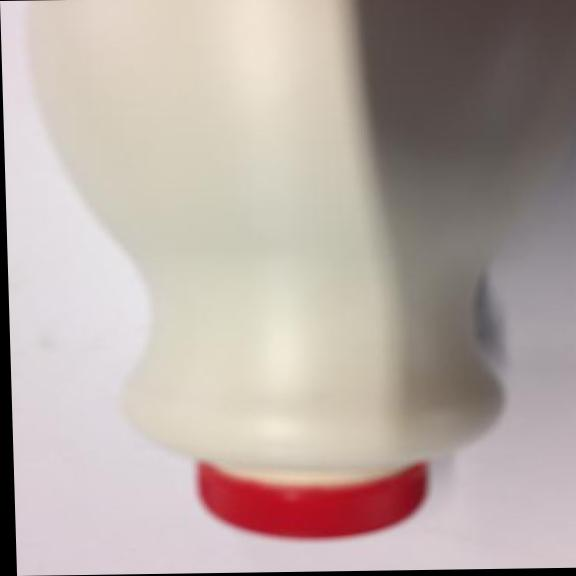Plastik: (10, 0, 576, 548)
